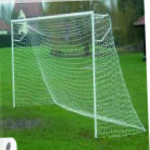goals: (9, 9, 148, 140)
